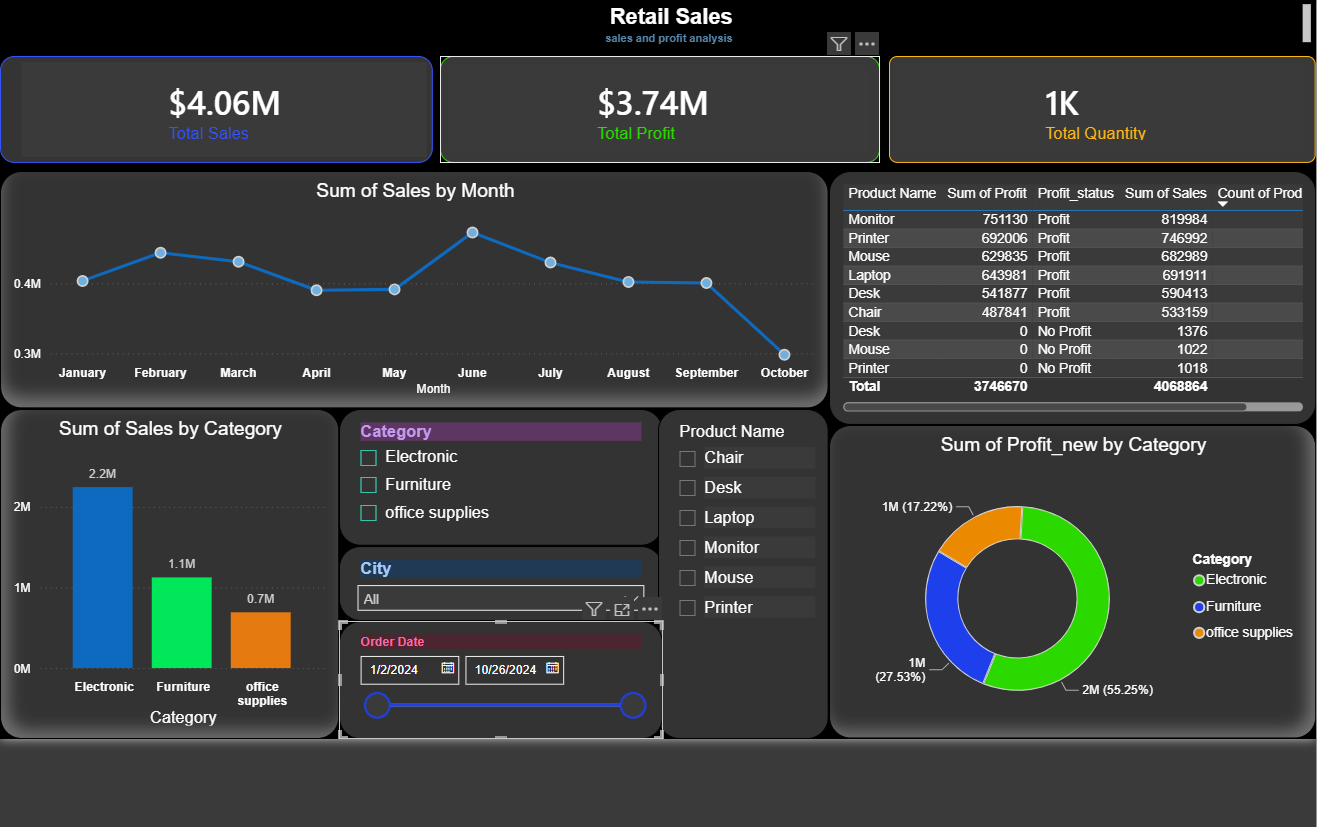

The page's visual inventory and layout, read from the dashboard file:
{"tool":"powerbi","page":{"name":"Page 1","canvas":[1280,720],"ordinal":0},"visuals":[{"type":"clusteredColumnChart","title":"Sum of Sales by Category","fields":{"Y":["Sum(retail_sales_powerbi_practice.Sales)"],"Category":["retail_sales_powerbi_practice.Category"]},"box":[0,398.8,329.7,321],"z":0},{"type":"lineChart","title":"Sum of Sales by Month","fields":{"Category":["retail_sales_powerbi_practice.Order Date.Variation.Date Hierarchy.Month"],"Y":["Sum(retail_sales_powerbi_practice.Sales)"]},"box":[0,167.3,806.3,231.5],"z":1000},{"type":"donutChart","title":"Sum of Profit_new by Category","fields":{"Y":["Sum(retail_sales_powerbi_practice.Profit_new)"],"Category":["retail_sales_powerbi_practice.Category"]},"box":[806.3,414.3,473.7,305.4],"z":2000},{"type":"slicer","fields":{"Values":["retail_sales_powerbi_practice.Category"]},"box":[329.7,398.8,315.1,133.3],"z":3000},{"type":"slicer","fields":{"Values":["retail_sales_powerbi_practice.Order Date"]},"box":[329.7,605,315.1,114.8],"z":4000},{"type":"slicer","fields":{"Values":["retail_sales_powerbi_practice.City"]},"box":[329.7,532,315.1,72.9],"z":5000},{"type":"textbox","box":[0,0,1280,55.4],"z":6000},{"type":"tableEx","fields":{"Values":["Table.Product Name","Sum(Table.Profit)","Table.Profit_status","Sum(Table.Sales)","CountNonNull(Table.Product Name)"]},"box":[806.3,167.3,473.7,247.1],"z":7000},{"type":"slicer","fields":{"Values":["retail_sales_powerbi_practice.Product Name"]},"box":[640,398.8,166.3,321],"z":8000},{"type":"cardVisual","fields":{"Data":["retail_sales_powerbi_practice.Total Profit"]},"box":[428,55.4,428,104.1],"z":9000},{"type":"cardVisual","fields":{"Data":["retail_sales_powerbi_practice.Total Quantity"]},"box":[864.7,55.4,415.3,104.1],"z":10000},{"type":"cardVisual","fields":{"Data":["retail_sales_powerbi_practice.Total Sales"]},"box":[0,55.4,421.2,104.1],"z":11000}]}

Visuals, with their boxes in screenshot pixels (x1, y1, x2, y2):
"Sum of Sales by Category" clusteredColumnChart: crop(3, 405, 338, 730)
"Sum of Sales by Month" lineChart: crop(3, 170, 822, 405)
"Sum of Profit_new by Category" donutChart: crop(822, 420, 1302, 730)
slicer - retail_sales_powerbi_practice.Category: crop(338, 405, 658, 540)
slicer - retail_sales_powerbi_practice.Order Date: crop(338, 614, 658, 730)
slicer - retail_sales_powerbi_practice.City: crop(338, 540, 658, 614)
textbox: crop(3, 0, 1302, 56)
tableEx - Table.Product Name x Sum(Table.Profit): crop(822, 170, 1302, 420)
slicer - retail_sales_powerbi_practice.Product Name: crop(653, 405, 822, 730)
cardVisual - retail_sales_powerbi_practice.Total Profit: crop(438, 56, 872, 162)
cardVisual - retail_sales_powerbi_practice.Total Quantity: crop(881, 56, 1302, 162)
cardVisual - retail_sales_powerbi_practice.Total Sales: crop(3, 56, 431, 162)
